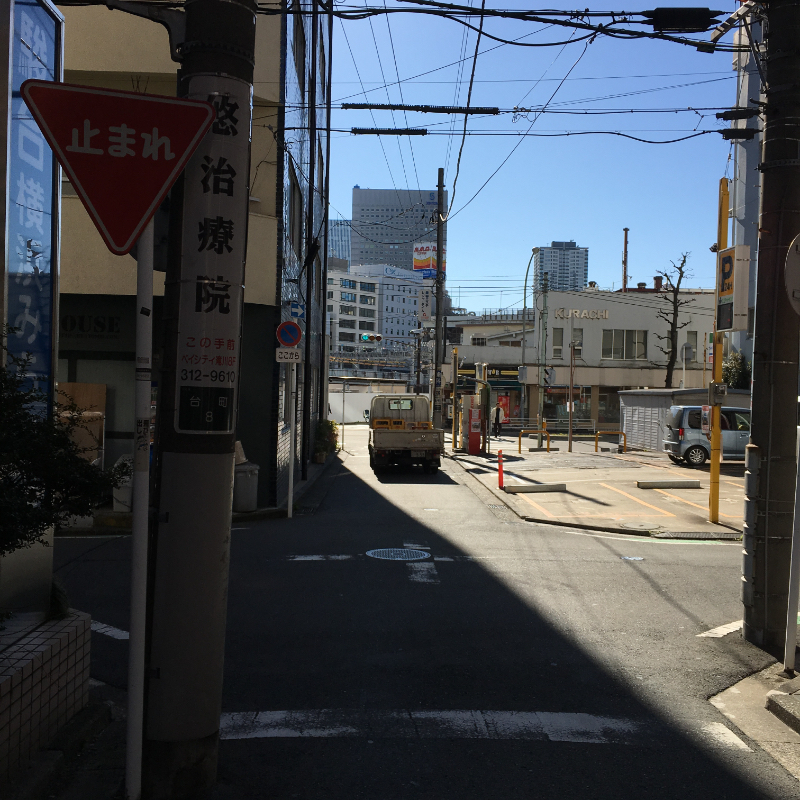STOP: (16, 75, 217, 258)
